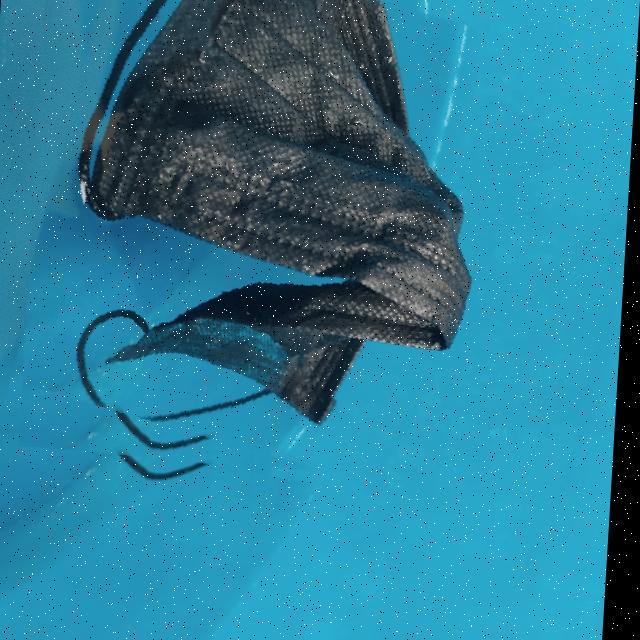mask: (21, 0, 530, 489)
